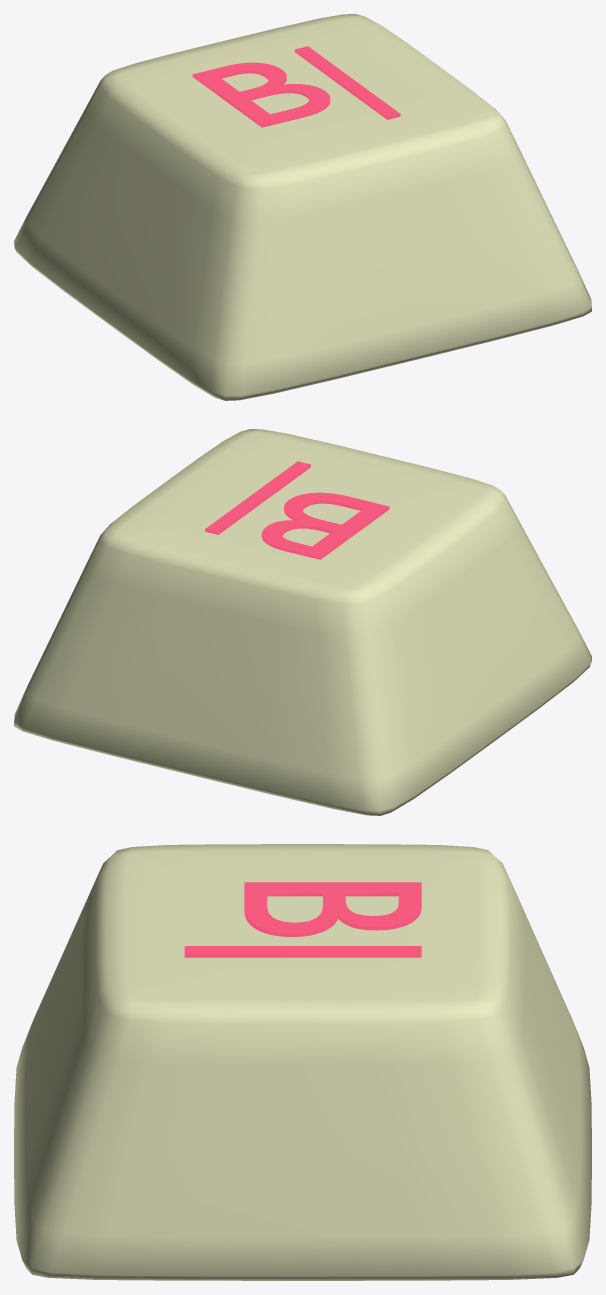
Rendered from keyB.glb.
3 renders of one model, top to bottom at view 1: azimuth 30°, elevation 25°; view 2: azimuth 150°, elevation 25°; view 3: azimuth 270°, elevation 25°, orthographic. The views are drawn at different scales.
Parts seen in each view (by area): view 1: Cube, Text; view 2: Cube, Text; view 3: Cube, Text.
Boxes of the visible parts, x1,y1,x2,y2 form: Cube: (14,14,591,400); Text: (192,46,400,127); Cube: (14,429,591,815); Text: (205,461,389,559); Cube: (14,844,591,1280); Text: (184,882,421,957).
Bounding box in the file's own units: 1.97 × 0.9057 × 1.97.
